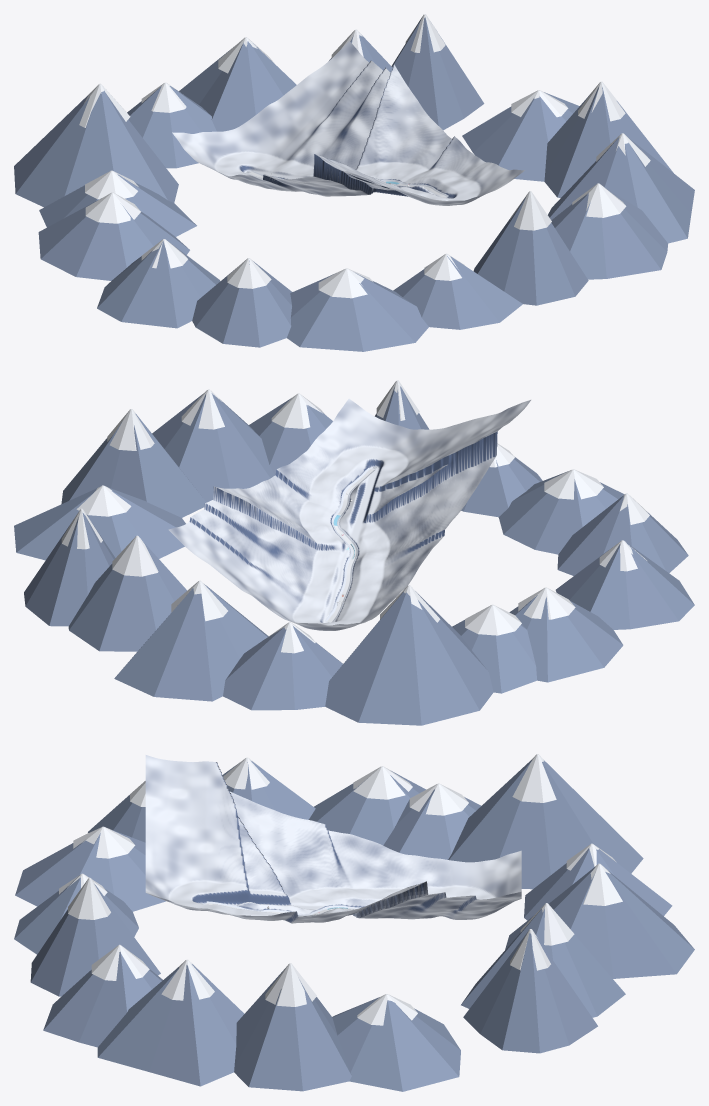
The model's file is tempestade_polar.glb.
The picture shows the model from 3 angles, top to bottom: view 1: azimuth 30°, elevation 25°; view 2: azimuth 150°, elevation 25°; view 3: azimuth 270°, elevation 25°; orthographic projection. The views are drawn at different scales.
Visible parts, largest first — view 1: terrain, mtn10, mtn5, mtn2, mtn3, mtn8, mtn1, mtn7, mtn6, mtn12, mtn15, mtn4 (+17 smaller); view 2: terrain, mtn10, mtn12, mtn1, mtn7, mtn13, mtn11, mtn0, mtn15, mtn8, mtn14, mtn5 (+19 smaller); view 3: terrain, mtn10, mtn1, mtn0, mtn14, mtn12, mtn15, mtn5, mtn3, mtn2, mtn13, mtn8 (+18 smaller).
Part boxes in pixels (<box>): terrain: <box>172,41,524,205</box>; mtn10: <box>14,90,178,207</box>; mtn5: <box>287,273,428,351</box>; mtn2: <box>551,186,668,279</box>; mtn3: <box>473,197,588,305</box>; mtn8: <box>38,198,189,280</box>; mtn1: <box>548,137,694,243</box>; mtn7: <box>97,241,220,328</box>; mtn6: <box>192,260,292,347</box>; mtn12: <box>179,41,296,131</box>; mtn15: <box>462,92,579,181</box>; mtn4: <box>393,256,522,329</box>; terrain: <box>168,398,530,630</box>; mtn10: <box>325,591,493,725</box>; mtn12: <box>114,584,268,701</box>; mtn1: <box>152,393,274,502</box>; mtn7: <box>555,542,694,629</box>; mtn13: <box>68,540,186,651</box>; mtn11: <box>223,626,342,710</box>; mtn0: <box>61,413,206,517</box>; mtn15: <box>14,487,185,560</box>; mtn8: <box>509,595,623,682</box>; mtn14: <box>24,513,115,626</box>; mtn5: <box>498,471,624,554</box>; terrain: <box>145,755,521,923</box>; mtn10: <box>448,760,643,889</box>; mtn1: <box>97,964,244,1086</box>; mtn0: <box>234,966,351,1091</box>; mtn14: <box>463,932,597,1053</box>; mtn12: <box>505,866,694,978</box>; mtn15: <box>332,997,460,1091</box>; mtn5: <box>15,830,165,911</box>; mtn3: <box>30,884,160,996</box>; mtn2: <box>43,951,162,1047</box>; mtn13: <box>461,908,625,1017</box>; mtn8: <box>309,771,425,845</box>.
Size of what is drawn, in the model's own units: 3272 by 691 by 3110.
